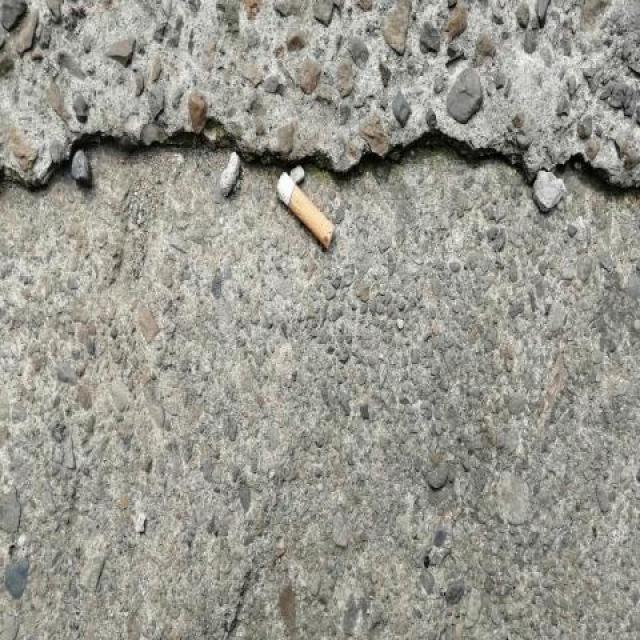non-organic waste: (272, 162, 336, 254)
